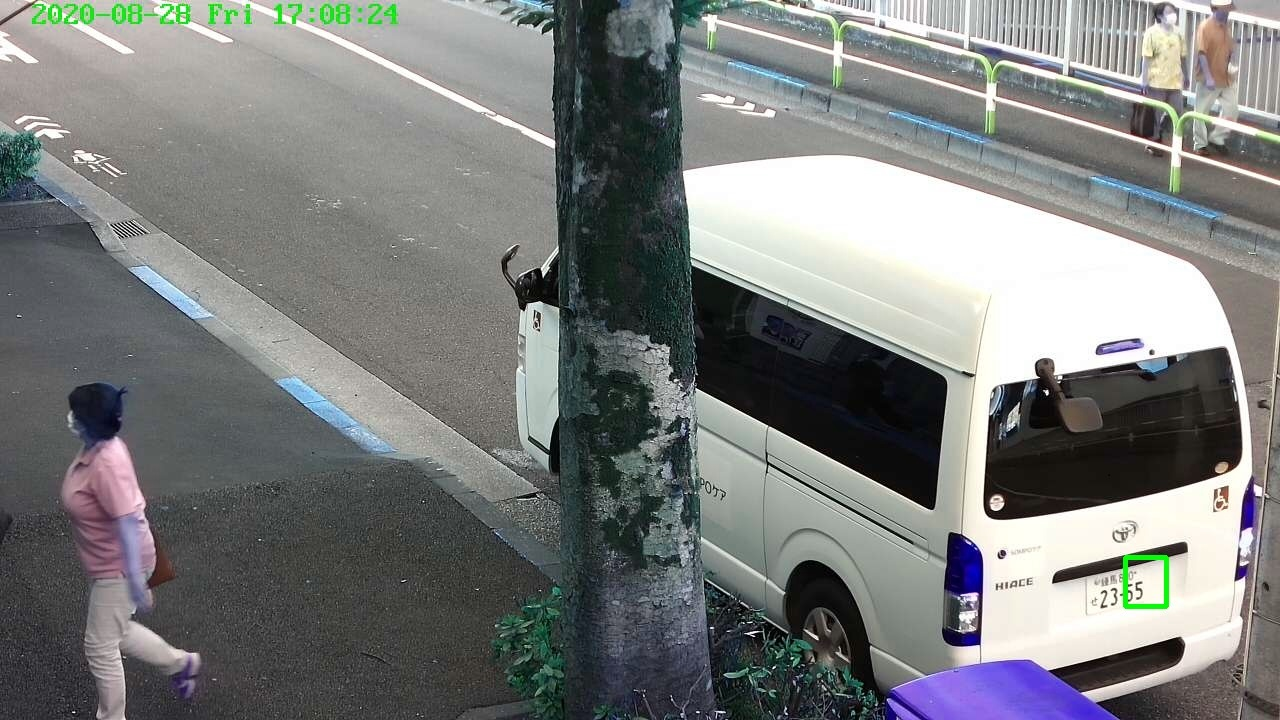number_plate: (1088, 573, 1154, 610)
